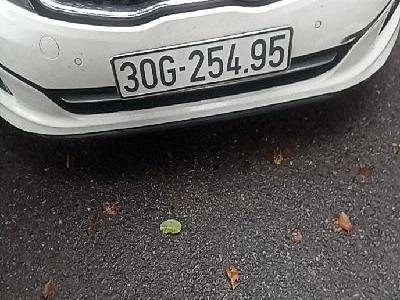number: (114, 29, 292, 101)
